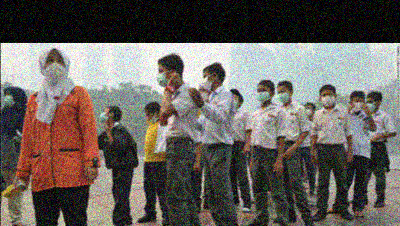mask_weared_incorrect: (144, 110, 155, 123)
with_mask: (42, 53, 66, 82), (157, 66, 170, 87), (320, 90, 335, 106), (256, 86, 270, 102), (276, 88, 289, 104), (3, 91, 16, 106), (202, 71, 212, 90), (351, 97, 363, 111), (197, 87, 208, 102), (366, 97, 376, 112), (100, 108, 109, 124), (305, 105, 312, 115)
